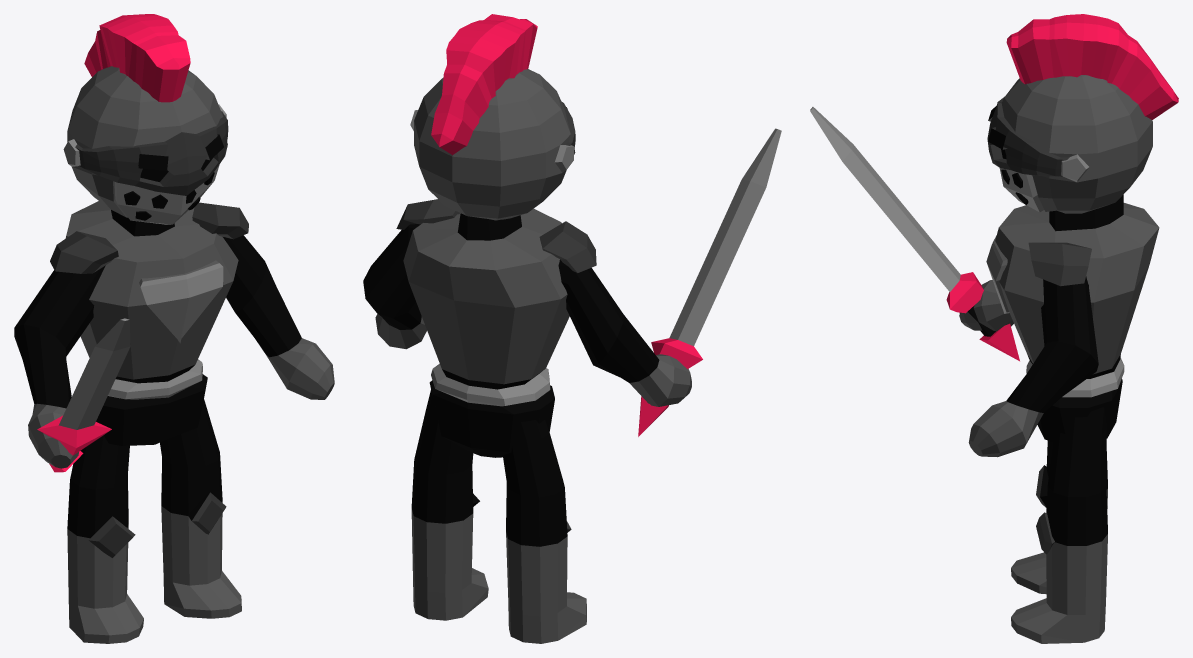
The model's file is Guard.fbx.
The picture shows the model from 3 angles, left to right: view 1: azimuth 30°, elevation 25°; view 2: azimuth 150°, elevation 25°; view 3: azimuth 270°, elevation 25°; orthographic projection.
Visible parts, largest first — view 1: Torso, Head, RightLeg, RightLeg.001, Head.001, RightArm, LeftArm, Sword; view 2: Torso, Head.001, RightLeg, RightLeg.001, Head, RightArm, Sword, LeftArm; view 3: Torso, Head.001, RightLeg.001, Head, LeftArm, Sword, RightLeg, RightArm.
Part boxes in pixels (x1,y1,x2,y2): Torso: (50,201,248,446); Head: (75,14,228,195); RightLeg: (67,435,143,643); RightLeg.001: (160,399,241,618); Head.001: (63,66,226,224); RightArm: (14,265,105,468); LeftArm: (223,235,334,399); Sword: (37,318,130,472); Torso: (396,199,596,457); Head.001: (410,69,573,220); RightLeg: (503,420,586,643); RightLeg.001: (411,389,488,620); Head: (431,14,575,155); RightArm: (558,259,691,406); Sword: (638,128,781,436); LeftArm: (363,224,426,349); Torso: (986,194,1159,442); Head.001: (999,75,1152,213); RightLeg.001: (1011,407,1107,643); Head: (987,14,1178,176); LeftArm: (968,276,1098,457); Sword: (810,107,1019,361); RightLeg: (1011,440,1107,594); RightArm: (959,280,1013,331).
Size of the model in its own units: 439 by 803 by 459.
